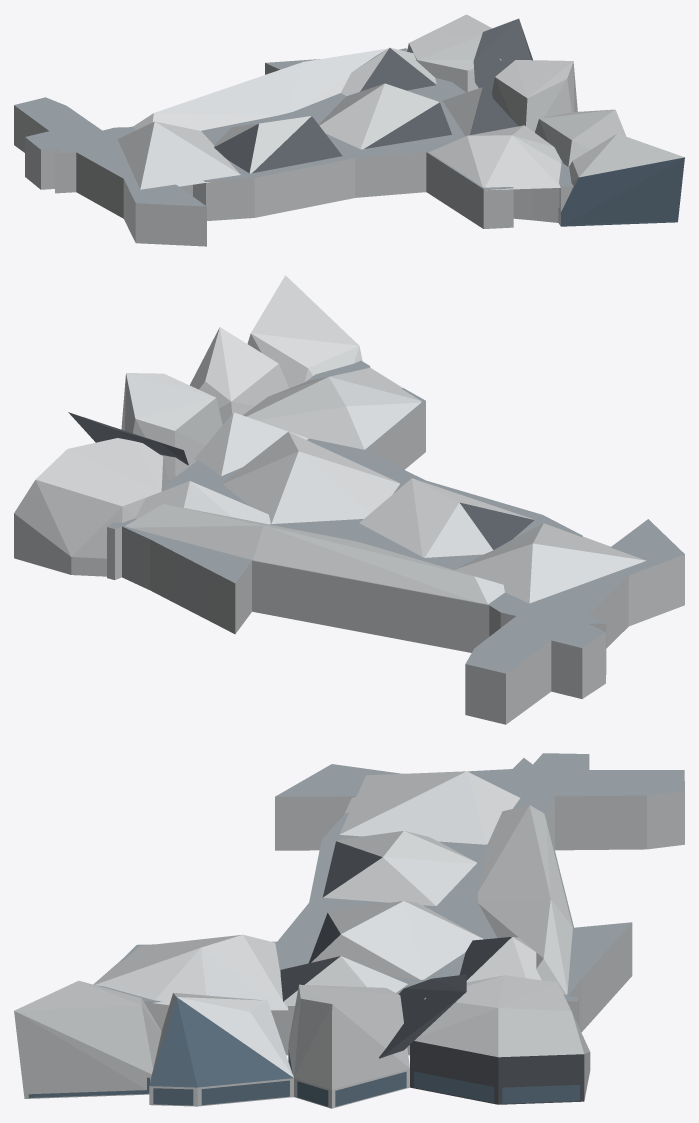
File: lv-crystals.glb
The picture shows the model from 3 angles, top to bottom: view 1: azimuth 30°, elevation 25°; view 2: azimuth 150°, elevation 25°; view 3: azimuth 270°, elevation 25°; orthographic projection. The views are drawn at different scales.
Visible parts, largest first — view 1: The Shops at Crystals; view 2: The Shops at Crystals; view 3: The Shops at Crystals.
Part boxes in pixels (x1,y1,x2,y2): The Shops at Crystals: (14, 14, 684, 246); The Shops at Crystals: (14, 275, 684, 724); The Shops at Crystals: (14, 753, 684, 1108).
Size of the model in its own units: 204 by 35 by 192.
